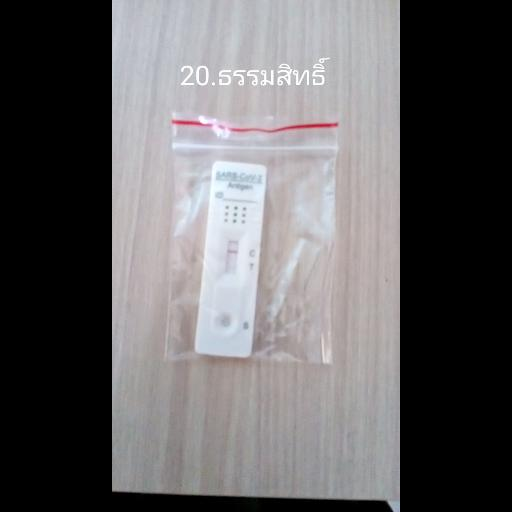Neg: (194, 159, 267, 359)
